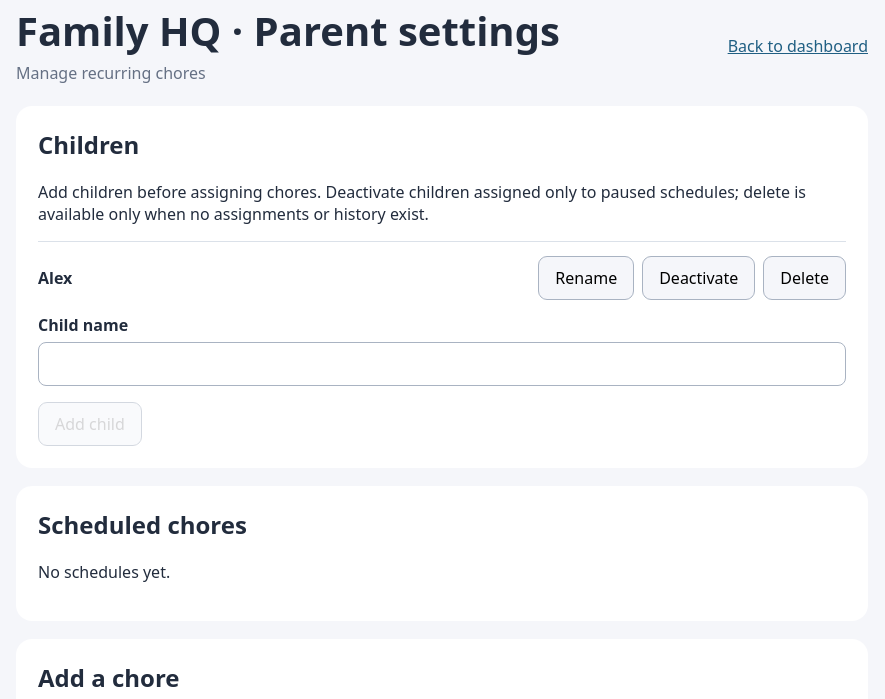
parent settings child controls › keeps a child form open and shows the server error for duplicate names
This screenshot has width=885, height=699.
In the field labelled "Child name": (442, 364) [38,342,846,386], type "alex"
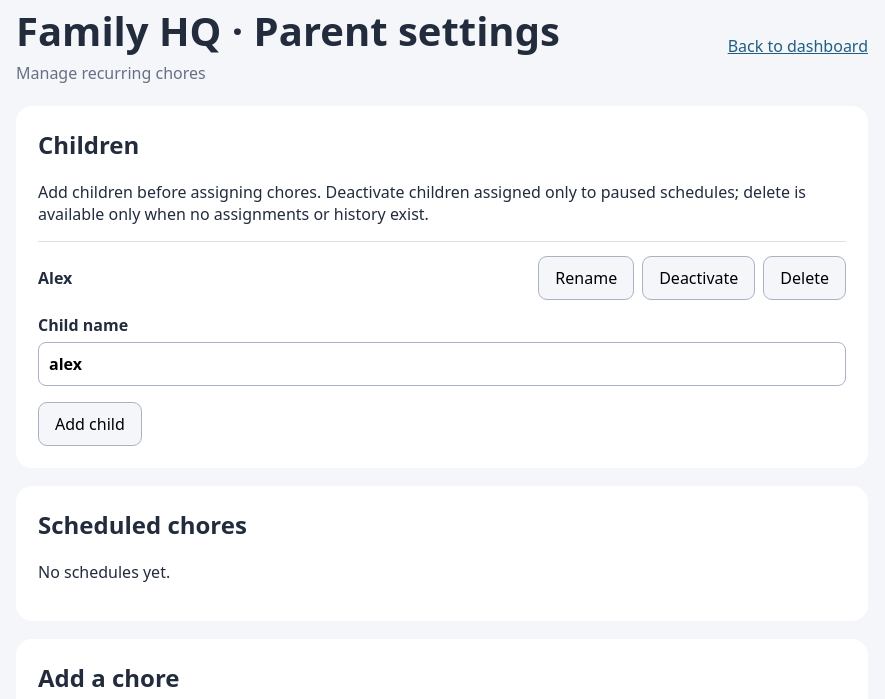
Click the button "Add child": (90, 424) [38,402,142,446]
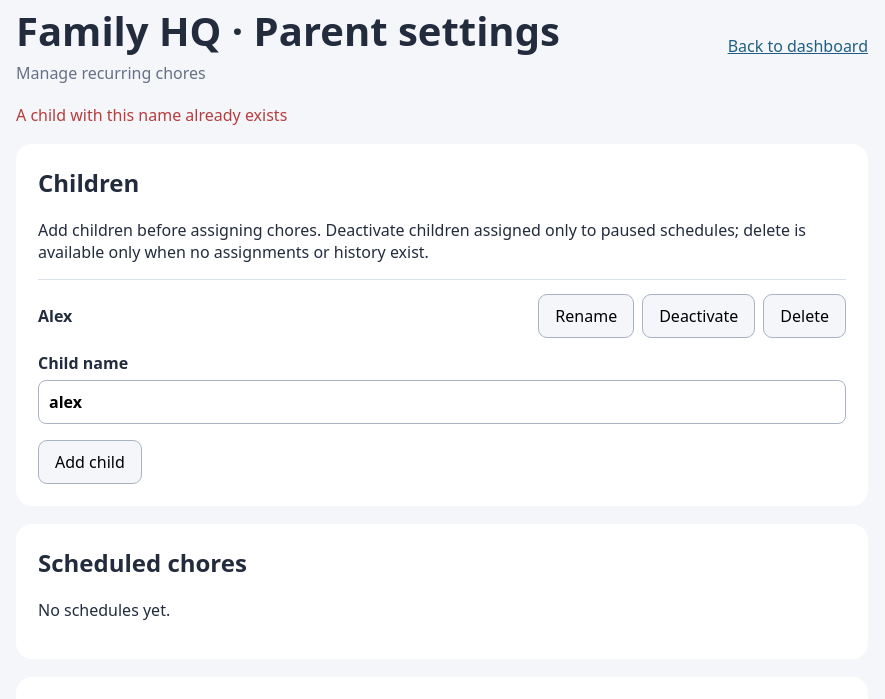
Now the message reads "A child with this name already exists", box [16,104,287,126]
